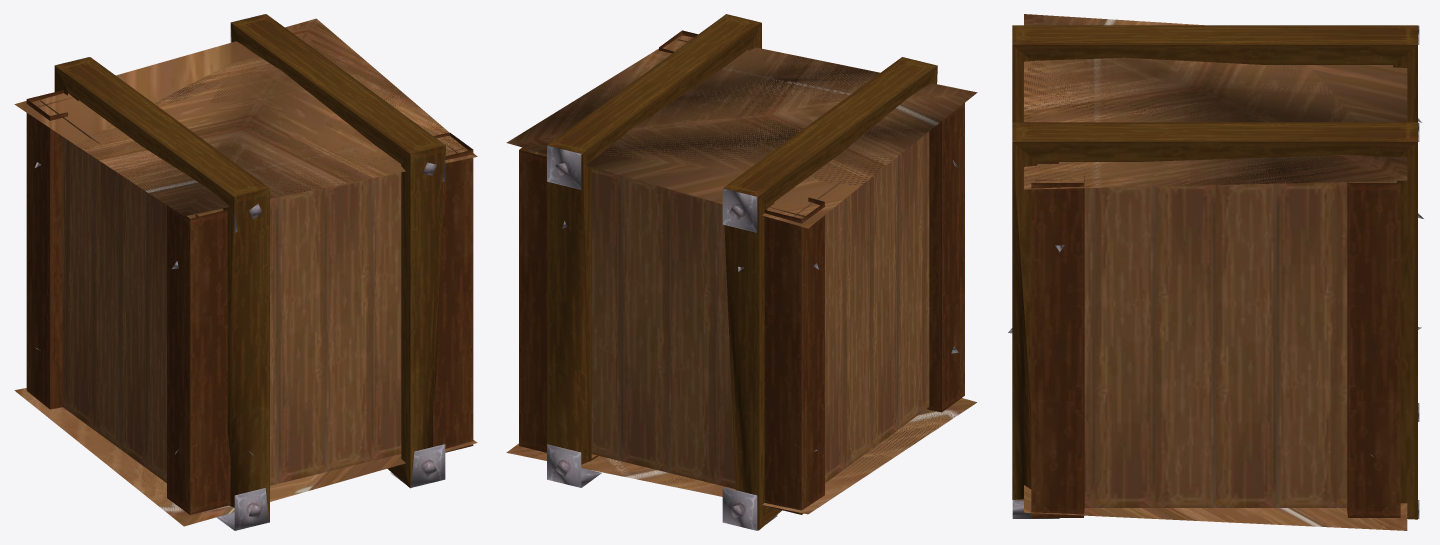
The model's file is Crate_Wooden.low.gltf.
3 views of the same model, side by side, from view 1: azimuth 30°, elevation 25°; view 2: azimuth 150°, elevation 25°; view 3: azimuth 270°, elevation 25° (orthographic). The views are drawn at different scales.
Visible parts, largest first — view 1: Crate_Wooden; view 2: Crate_Wooden; view 3: Crate_Wooden.
Part boxes in pixels (x1,y1,x2,y2): Crate_Wooden: (14, 14, 477, 530); Crate_Wooden: (506, 14, 977, 530); Crate_Wooden: (1008, 14, 1423, 530).
Bounding box in the file's own units: 0.8327 × 0.8798 × 0.8855.
2 materials, 2 textured.
